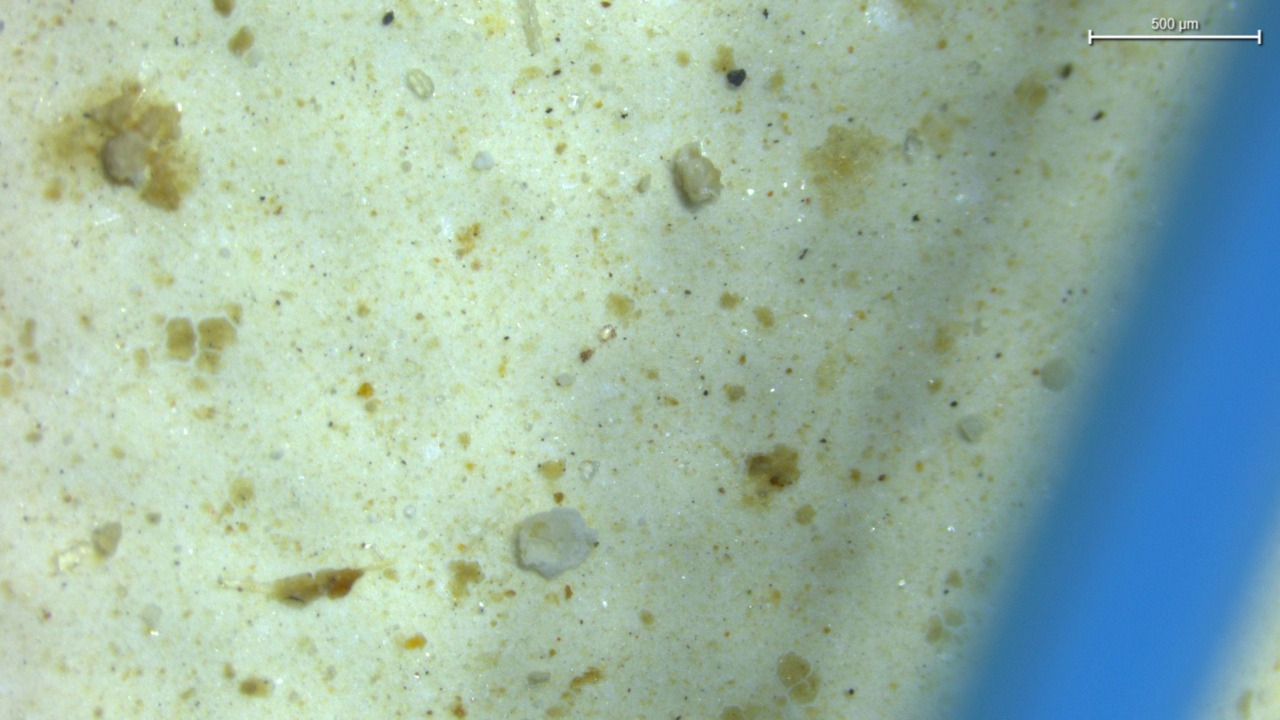microplastic_fragment: (514, 508, 598, 578), (672, 144, 722, 205), (406, 69, 434, 99), (472, 151, 495, 170)
